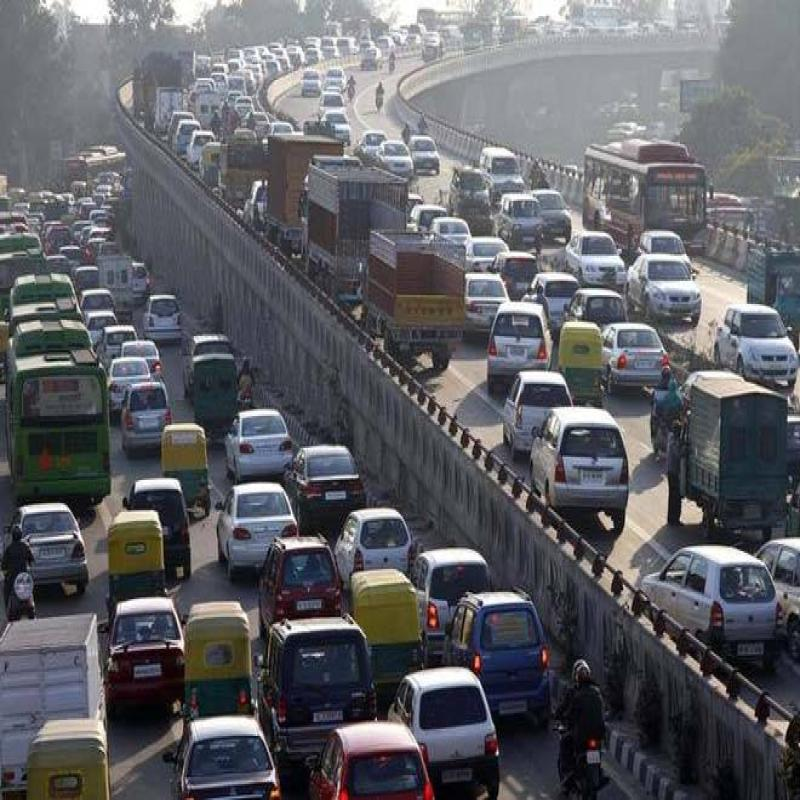auto: (346, 566, 437, 675), (177, 599, 263, 687), (20, 717, 107, 800), (158, 419, 220, 500), (103, 520, 169, 588), (562, 318, 618, 397)
bus: (571, 125, 729, 244), (7, 302, 109, 482)
car: (400, 668, 522, 792), (539, 410, 639, 528), (272, 619, 358, 734), (171, 719, 280, 800), (329, 725, 445, 800), (470, 593, 544, 703), (709, 295, 800, 379), (625, 257, 714, 325), (485, 316, 558, 386), (340, 504, 416, 566), (489, 192, 554, 260), (598, 318, 666, 380), (238, 406, 304, 469), (220, 488, 289, 548), (116, 396, 180, 451), (570, 240, 625, 296)
